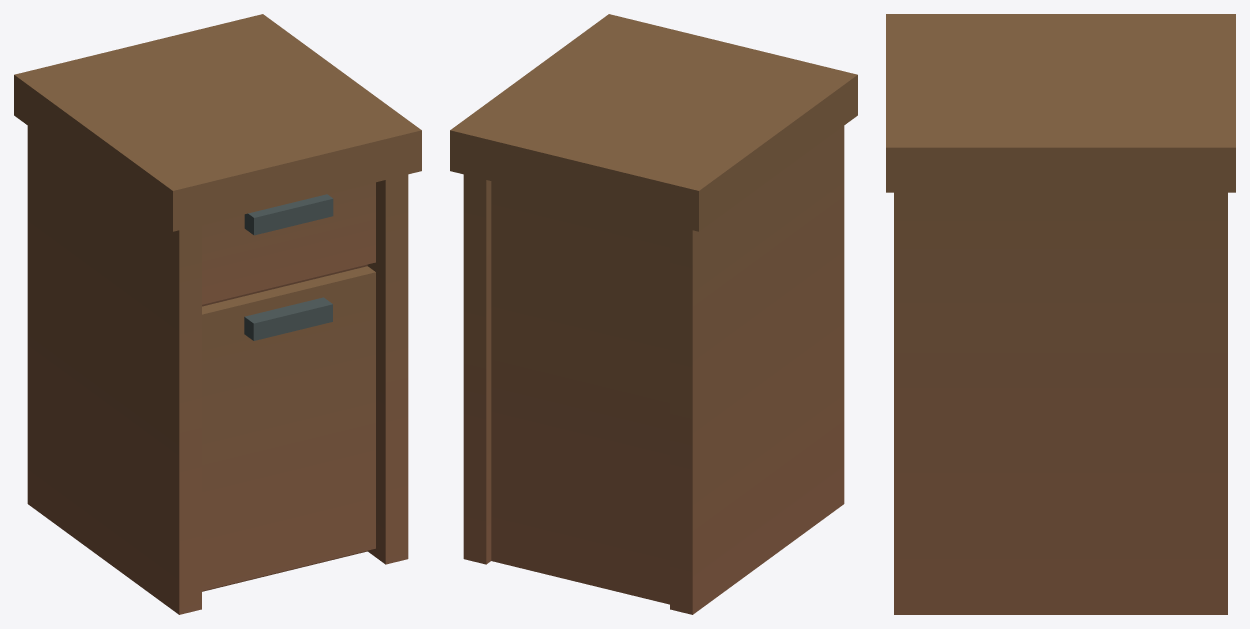
The model's file is Drawer.fbx.
3 renders of one model, left to right at view 1: azimuth 30°, elevation 25°; view 2: azimuth 150°, elevation 25°; view 3: azimuth 270°, elevation 25°, orthographic. The views are drawn at different scales.
Visible parts, largest first — view 1: Drawer; view 2: Drawer; view 3: Drawer.
Boxes of the visible parts, box(x1,y1,x2,y2) form: Drawer: box(14, 14, 421, 614); Drawer: box(450, 14, 857, 614); Drawer: box(886, 14, 1235, 614).
Size of the model in its own units: 83.73 by 138 by 92.57.
